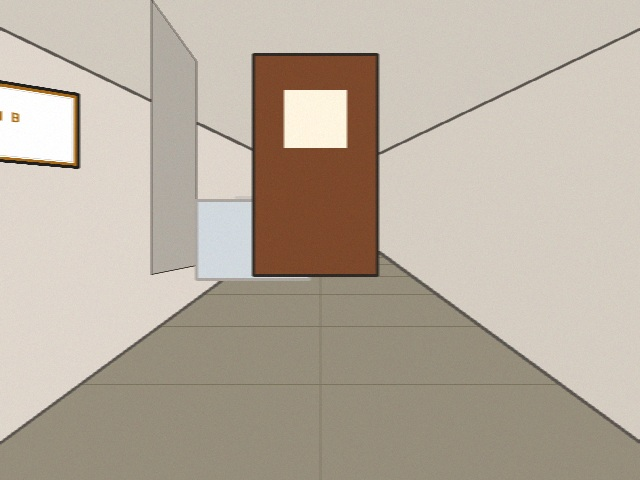directional_sign: (0, 63, 78, 167)
door: (253, 54, 377, 275)
hospital_bed: (196, 200, 313, 279), (270, 205, 368, 274)
